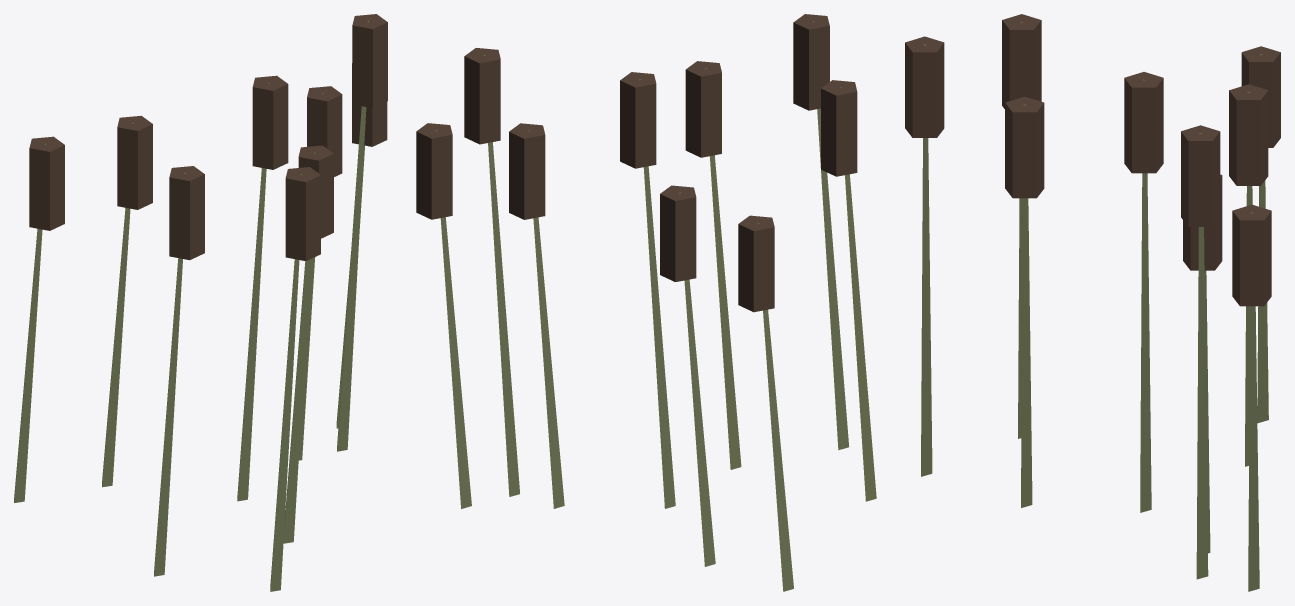
File: NAT_Ground_03_Reeds.glb
3 renders of one model, left to right at view 1: azimuth 30°, elevation 25°; view 2: azimuth 150°, elevation 25°; view 3: azimuth 270°, elevation 25°, orthographic. The views are drawn at different scales.
Parts seen in each view (by area): view 1: NAT_Ground_03_Reeds; view 2: NAT_Ground_03_Reeds; view 3: NAT_Ground_03_Reeds.
Part boxes in pixels (box(x1,y1,x2,y2)): NAT_Ground_03_Reeds: box(14, 14, 387, 591); NAT_Ground_03_Reeds: box(416, 14, 876, 591); NAT_Ground_03_Reeds: box(905, 14, 1280, 591).
Bounding box in the file's own units: 0.7735 × 0.8536 × 0.6349.
